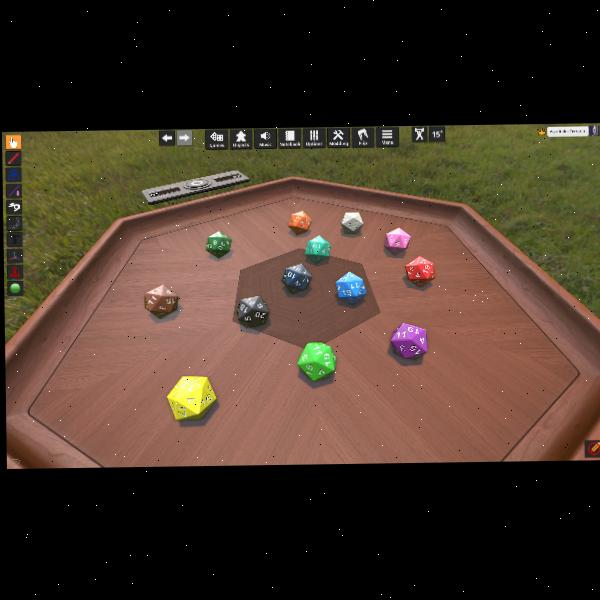d20: (168, 375, 218, 420), (298, 342, 335, 381), (391, 322, 427, 358), (144, 284, 179, 319), (236, 295, 269, 328), (334, 271, 365, 303), (404, 256, 434, 286), (282, 264, 310, 291), (205, 231, 230, 259), (384, 228, 409, 255), (305, 235, 329, 262), (288, 210, 311, 233), (341, 211, 362, 233)
